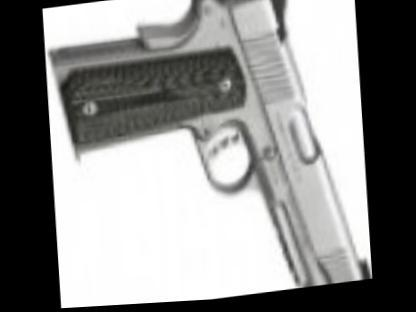pistol: (45, 0, 376, 309)
